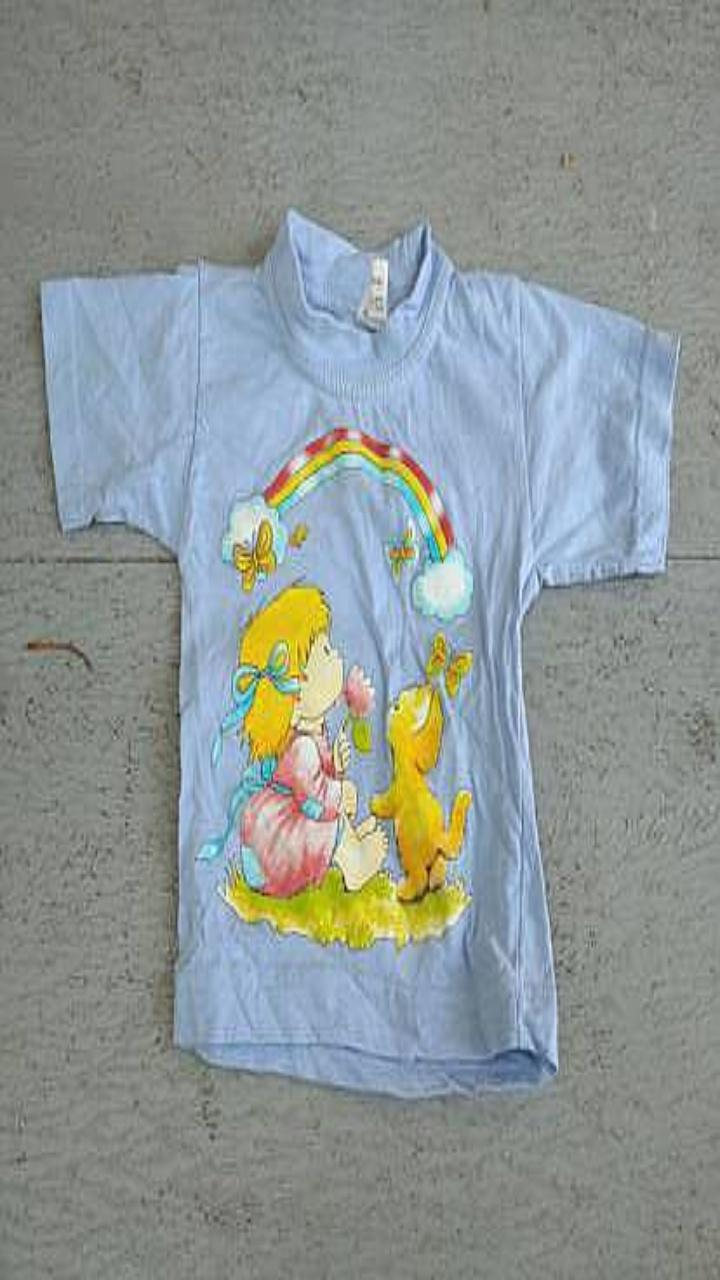T-Shirt: (41, 208, 679, 1096)
